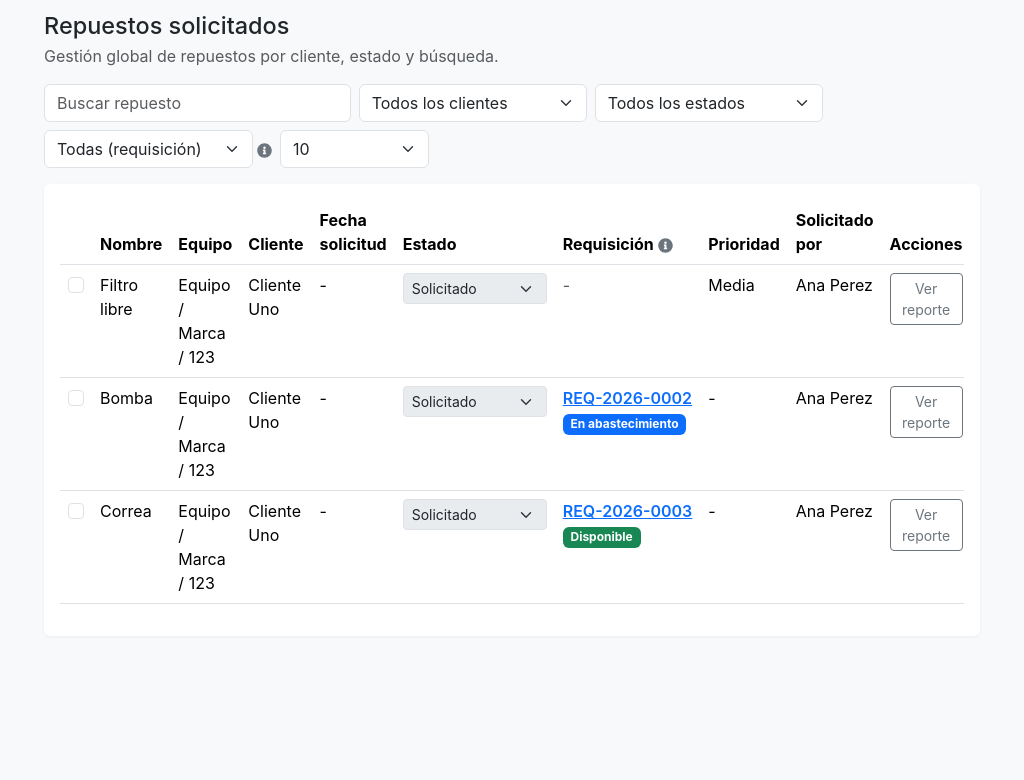
Test case: RepuestosSolicitadosPage (module on) › disables Hacer requisición when the selection includes a row already linked
Click the checkbox in the row of "Media" at (76, 285), box [68,277,84,293]
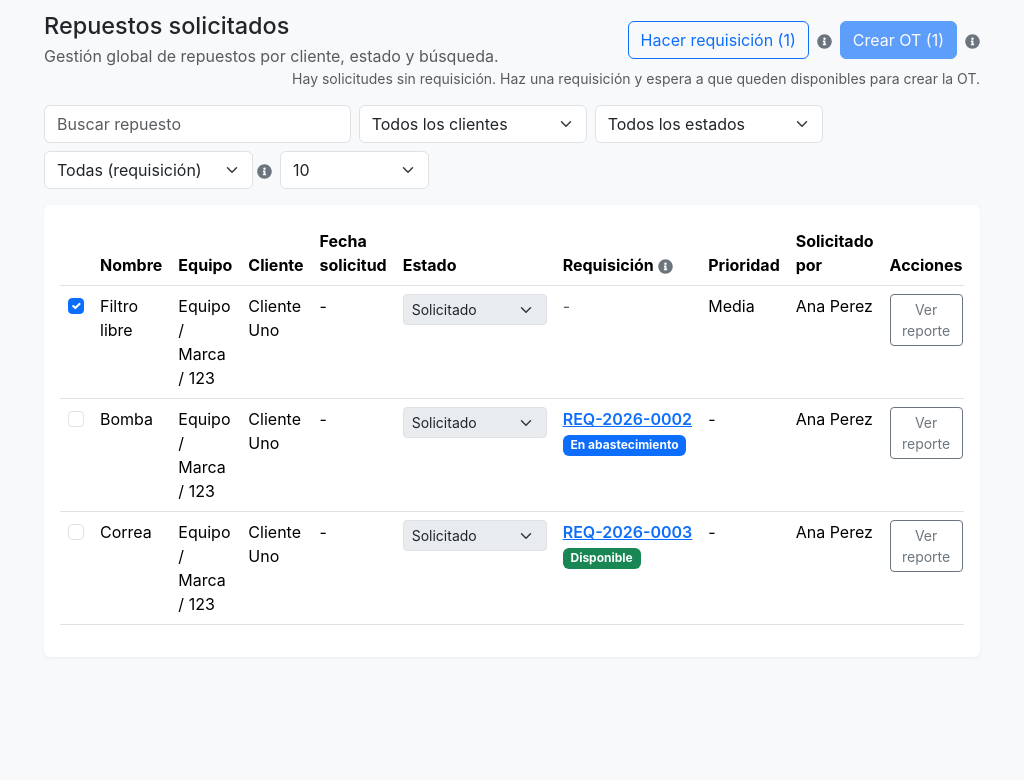
Click the checkbox in the row of "REQ-2026-0002" at (76, 419), box [68,411,84,427]
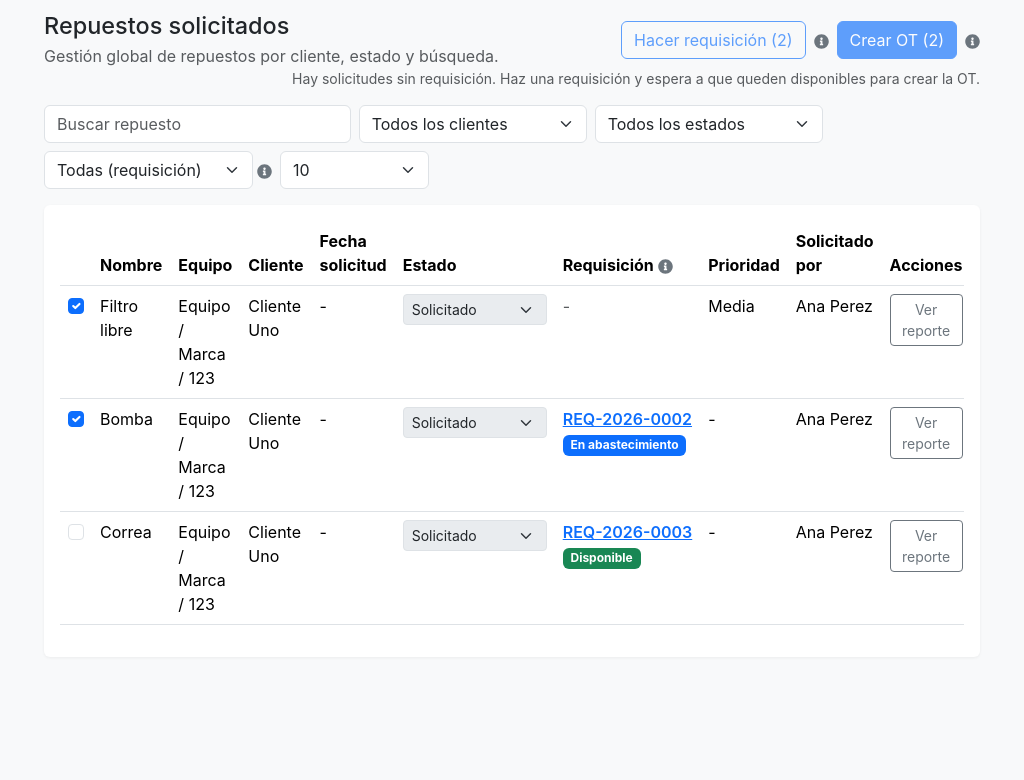
Expected: the button "Hacer requisición (2)" is disabled, [621,21,806,59]
